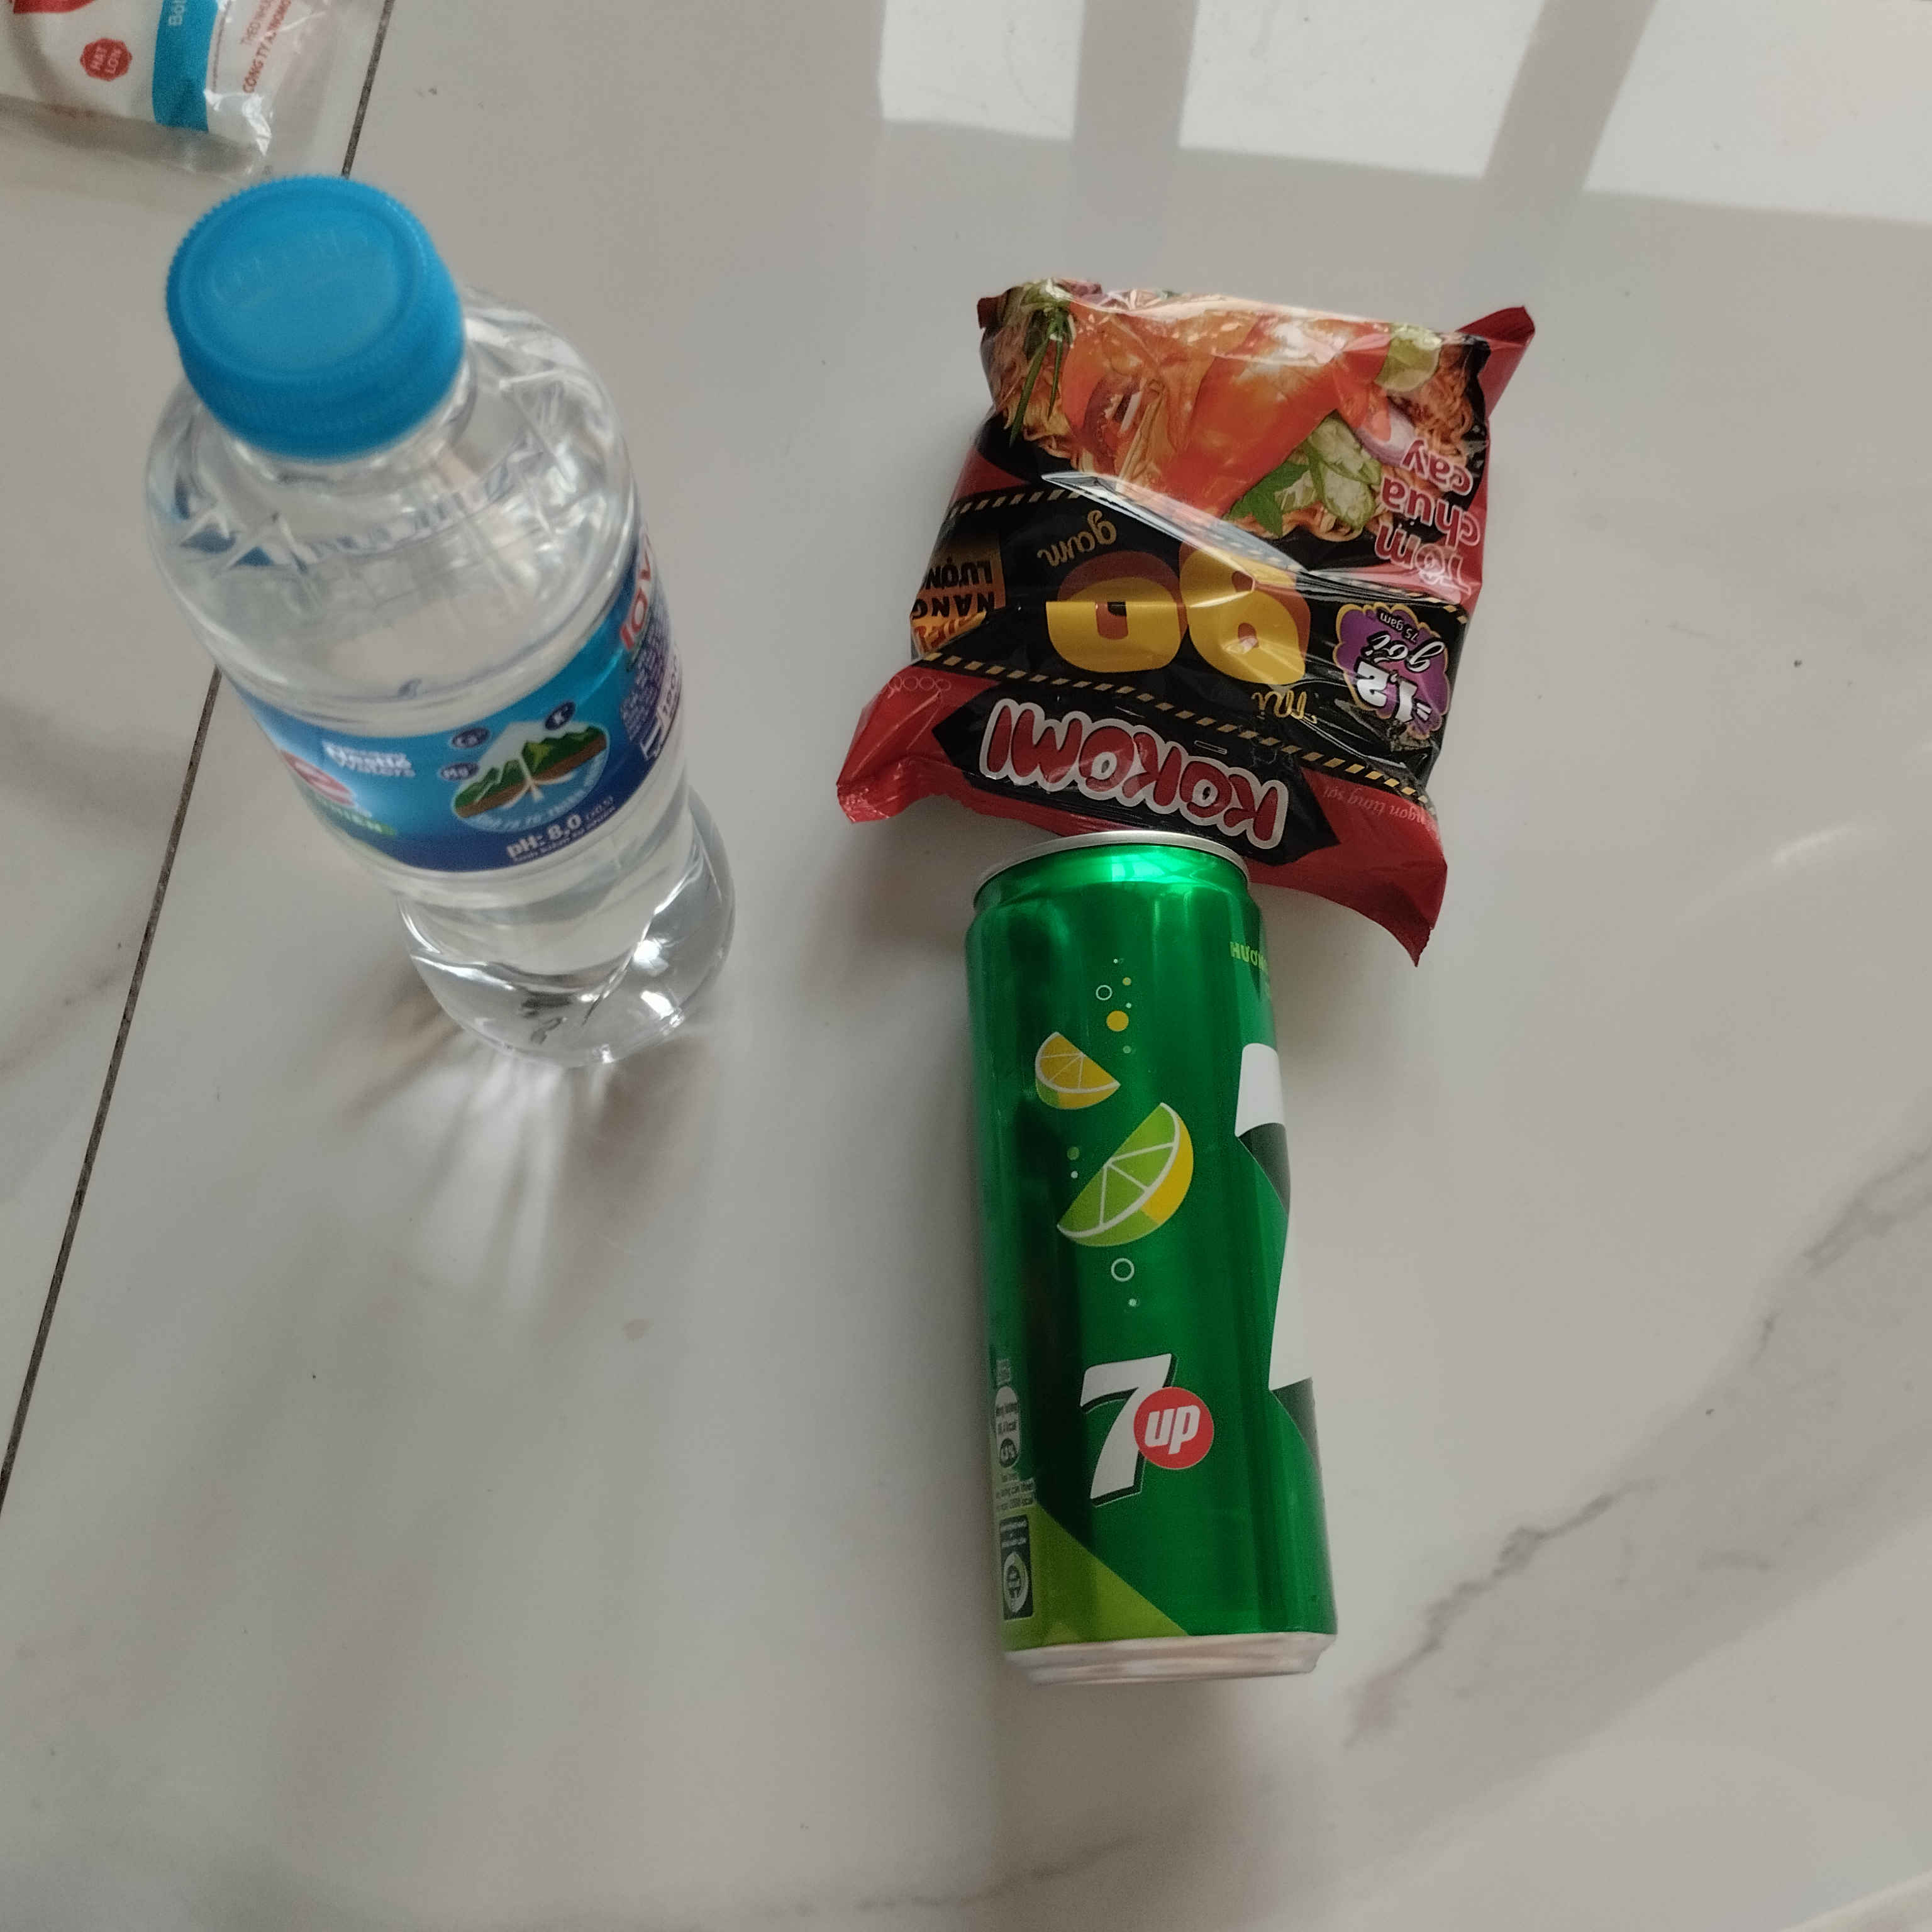7up: (957, 823, 1357, 1709)
Kokomi: (837, 258, 1568, 966)
Lavie: (131, 179, 747, 1083)
